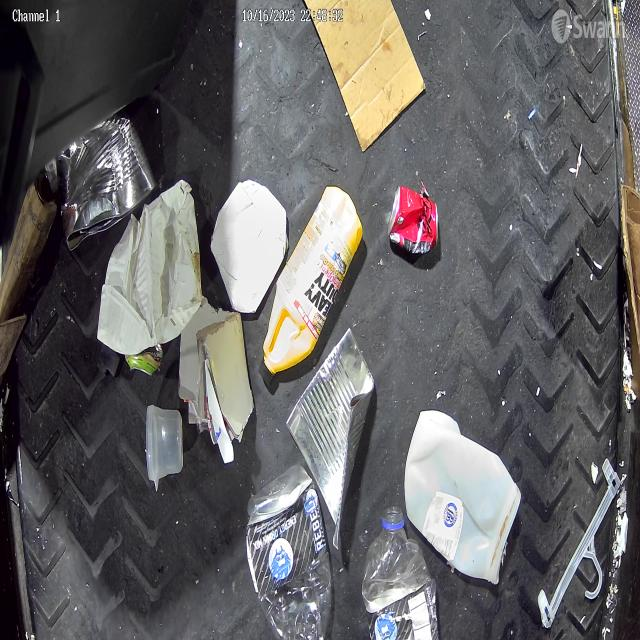can: (59, 118, 158, 252), (391, 184, 442, 259), (128, 345, 164, 375)
milk_jug: (404, 412, 522, 585)
non_white_jug: (258, 182, 361, 381)
plastic_bottle: (246, 462, 332, 640), (362, 506, 438, 640)
